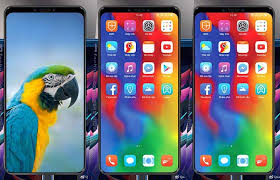bphone: (3, 3, 88, 177), (95, 2, 180, 176), (190, 1, 275, 174)
